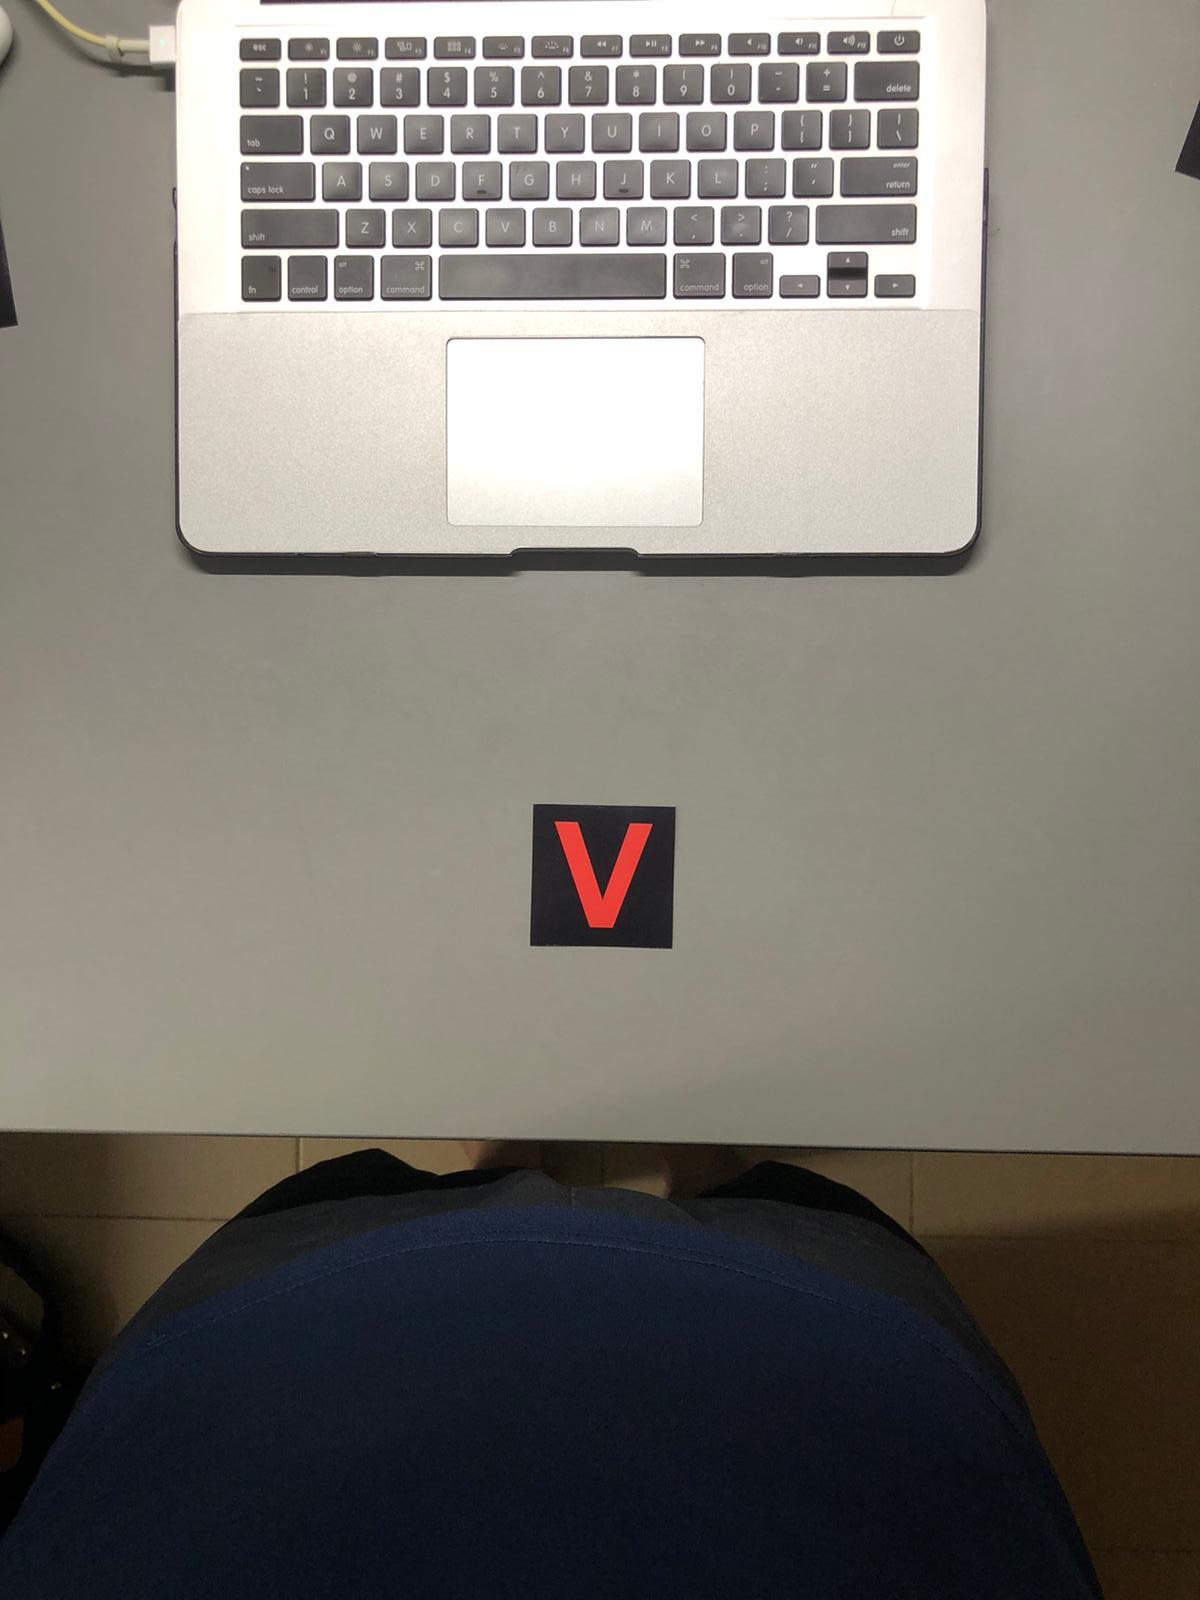V: (528, 803, 687, 944)
